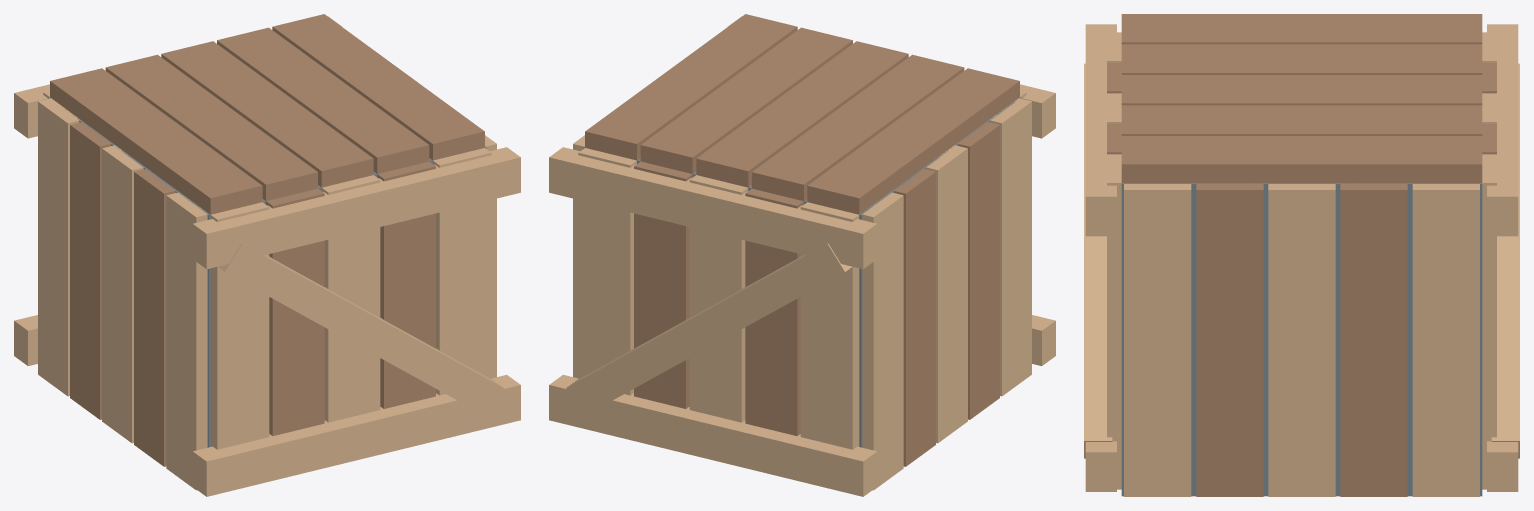
Rendered from cover-crate-clean.glb.
3 renders of one model, left to right at view 1: azimuth 30°, elevation 25°; view 2: azimuth 150°, elevation 25°; view 3: azimuth 270°, elevation 25°, orthographic. The views are drawn at different scales.
Parts seen in each view (by area): view 1: cover-crate-kit-clean-end, cover-crate-kit-clean-wood, cover-crate-kit-clean-shade; view 2: cover-crate-kit-clean-end, cover-crate-kit-clean-wood, cover-crate-kit-clean-shade; view 3: cover-crate-kit-clean-wood, cover-crate-kit-clean-end, cover-crate-kit-clean-shade.
Boxes of the visible parts, x1,y1,x2,y2 form: cover-crate-kit-clean-end: [14, 16, 520, 496]; cover-crate-kit-clean-wood: [50, 14, 484, 466]; cover-crate-kit-clean-shade: [48, 97, 486, 447]; cover-crate-kit-clean-end: [549, 16, 1055, 496]; cover-crate-kit-clean-wood: [585, 14, 1019, 466]; cover-crate-kit-clean-shade: [583, 97, 1021, 447]; cover-crate-kit-clean-wood: [1107, 14, 1496, 496]; cover-crate-kit-clean-end: [1084, 24, 1519, 496]; cover-crate-kit-clean-shade: [1121, 183, 1482, 496].
Bounding box in the file's own units: 1.3 × 1.16 × 1.39.
